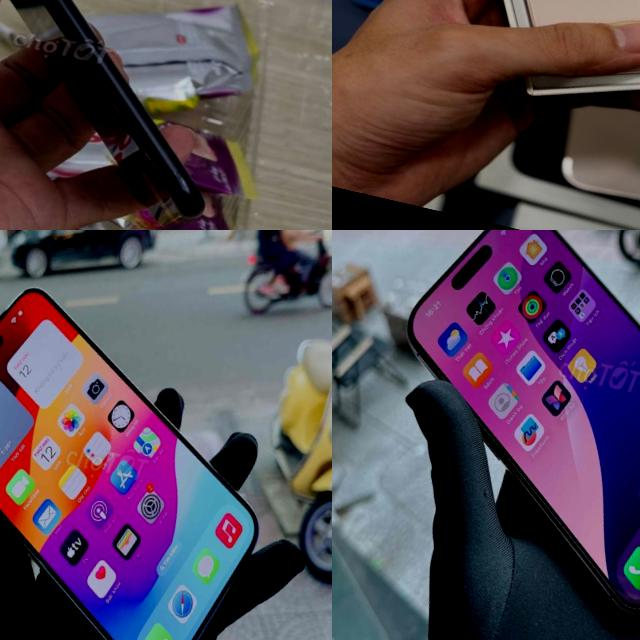gen_12_13: (0, 259, 307, 640), (382, 0, 640, 130)
gen_16: (349, 230, 640, 638)
gen_7_8: (0, 0, 285, 230)
